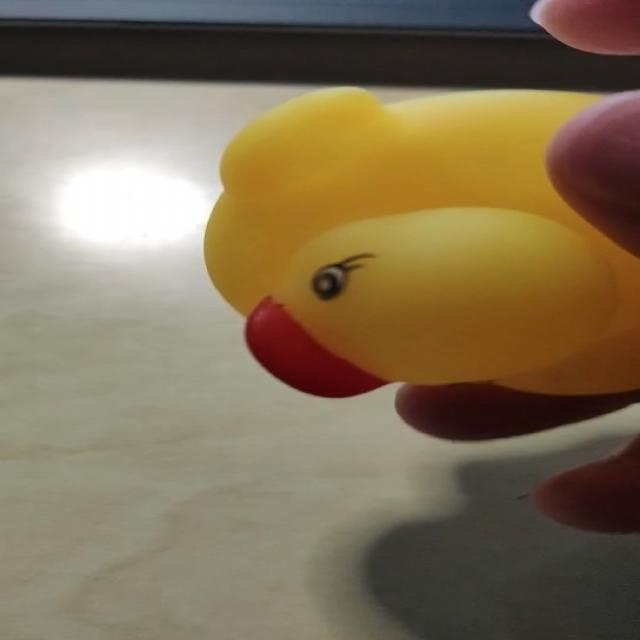rubber-duck: (203, 87, 638, 395)
